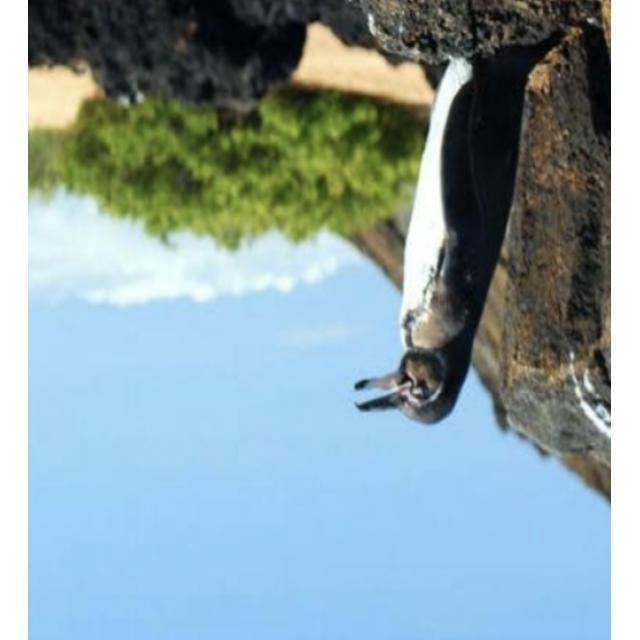penguin: (351, 42, 566, 424)
